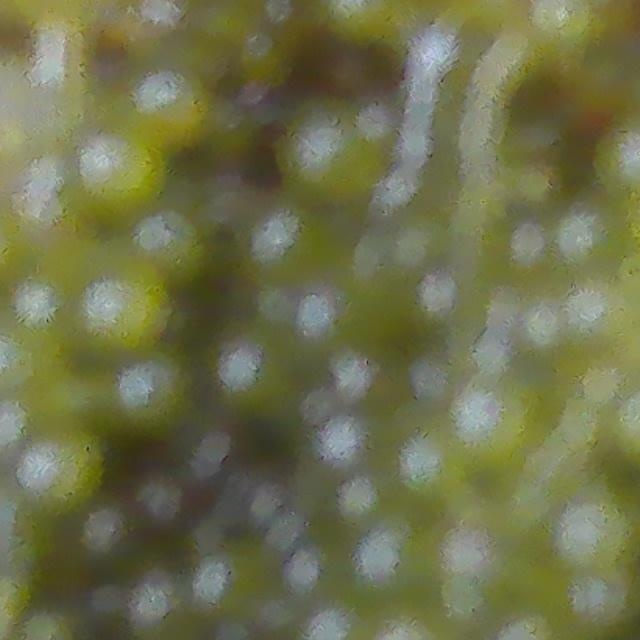SeaGrape: (254, 202, 345, 303), (279, 117, 372, 212), (75, 268, 165, 358), (559, 489, 633, 587), (75, 129, 159, 210), (113, 353, 193, 436), (391, 426, 470, 510), (22, 438, 94, 518), (449, 381, 522, 456), (13, 280, 73, 367), (138, 78, 200, 150)
